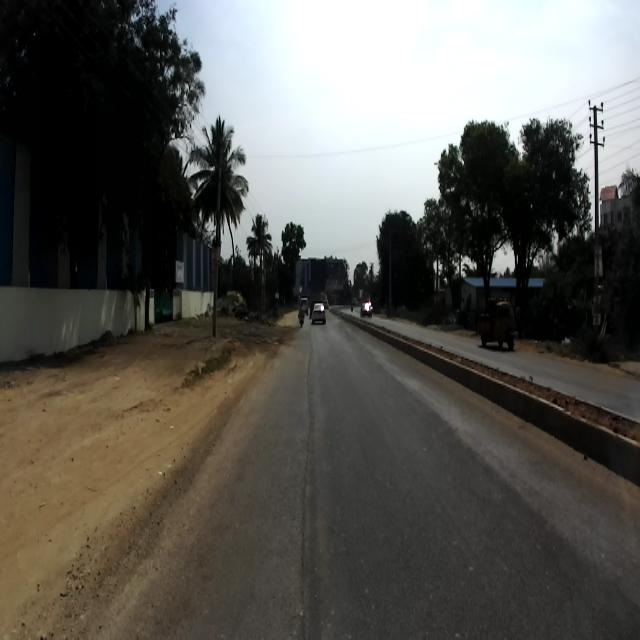tree ahead at: (192, 134, 238, 343)
